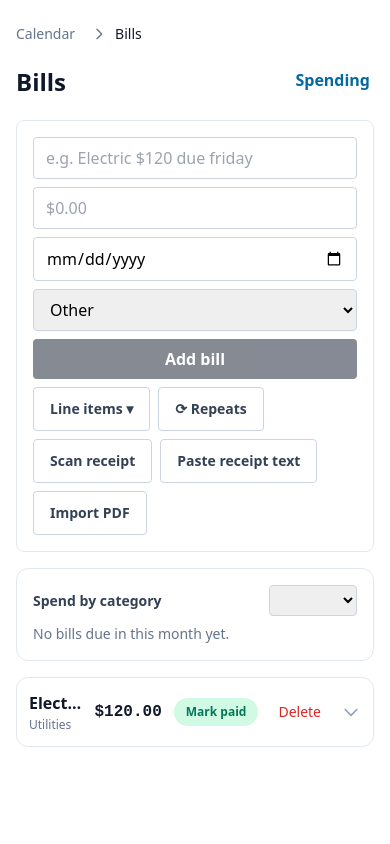
Test: mark paid toggle › PUTs paid:true and flips the badge optimistically
Click the button with aria-label "Mark paid Electric".
click(216, 712)  # box [174,698,258,726]
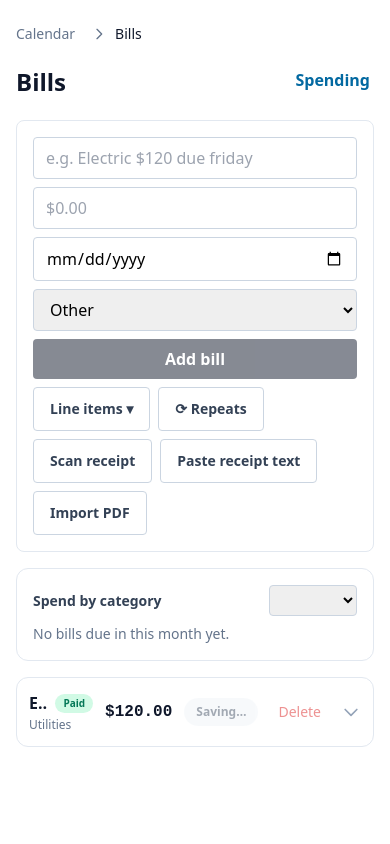
expect the text "Paid" is shown: met, box [55,694,93,712]
expect the button with aria-label "Mark unpaid Electric" is shown: met, box [184,698,258,726]
